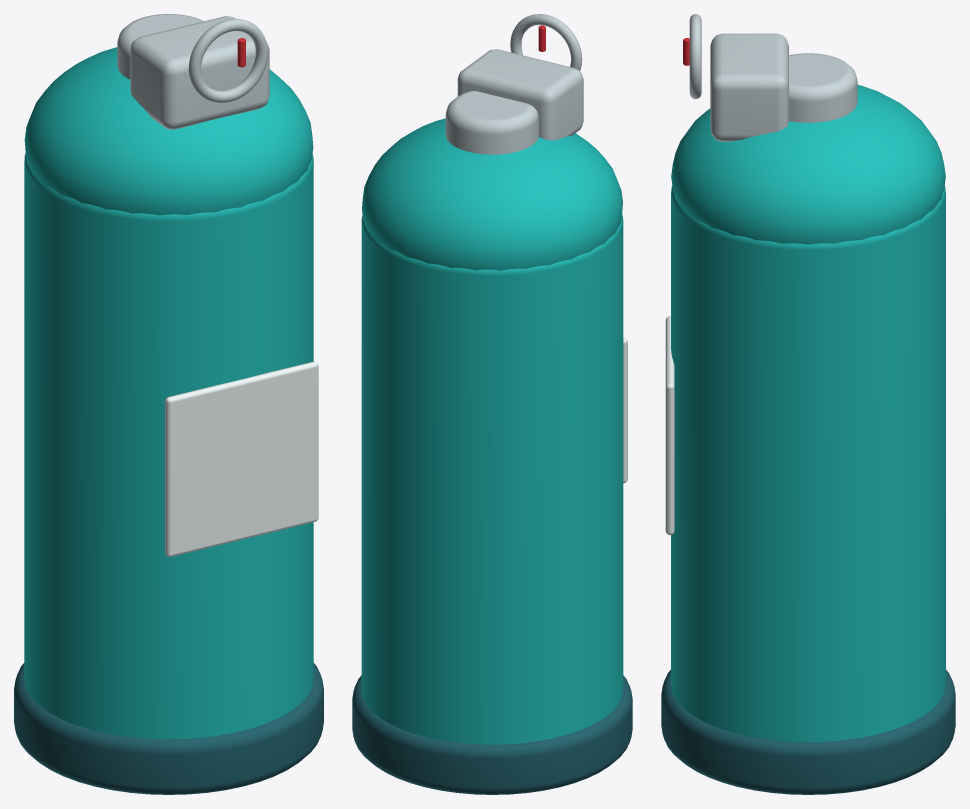
The model's file is Tanque_Oxigeno.fbx.
The picture shows the model from 3 angles, left to right: view 1: azimuth 30°, elevation 25°; view 2: azimuth 150°, elevation 25°; view 3: azimuth 270°, elevation 25°; orthographic projection. The views are drawn at different scales.
Parts seen in each view (by area): view 1: Cuerpo_de_tanque, Hombro_de_tanque, Etiqueta_oxigeno, Base_de_tanque, Regulador, Manometro, Cuello_de_tanque; view 2: Cuerpo_de_tanque, Hombro_de_tanque, Base_de_tanque, Regulador, Cuello_de_tanque, Manometro, Etiqueta_oxigeno; view 3: Cuerpo_de_tanque, Hombro_de_tanque, Base_de_tanque, Regulador, Cuello_de_tanque, Etiqueta_oxigeno, Manometro.
Part boxes in pixels (bbox=[...]): Cuerpo_de_tanque: bbox=[24, 153, 313, 739]; Hombro_de_tanque: bbox=[24, 47, 313, 215]; Etiqueta_oxigeno: bbox=[165, 361, 318, 556]; Base_de_tanque: bbox=[14, 663, 323, 794]; Regulador: bbox=[130, 16, 269, 129]; Manometro: bbox=[188, 18, 267, 102]; Cuello_de_tanque: bbox=[117, 14, 203, 79]; Cuerpo_de_tanque: bbox=[361, 214, 623, 744]; Hombro_de_tanque: bbox=[362, 118, 622, 270]; Base_de_tanque: bbox=[352, 675, 632, 794]; Regulador: bbox=[457, 49, 583, 140]; Cuello_de_tanque: bbox=[445, 91, 538, 154]; Manometro: bbox=[510, 14, 582, 70]; Etiqueta_oxigeno: bbox=[623, 338, 627, 483]; Cuerpo_de_tanque: bbox=[671, 185, 945, 742]; Hombro_de_tanque: bbox=[671, 85, 945, 244]; Base_de_tanque: bbox=[661, 670, 955, 794]; Regulador: bbox=[710, 33, 788, 141]; Cuello_de_tanque: bbox=[789, 53, 857, 122]; Etiqueta_oxigeno: bbox=[665, 316, 674, 535]; Manometro: bbox=[689, 14, 701, 99].
Bounding box in the file's own units: 0.6 × 1.62 × 0.6.
